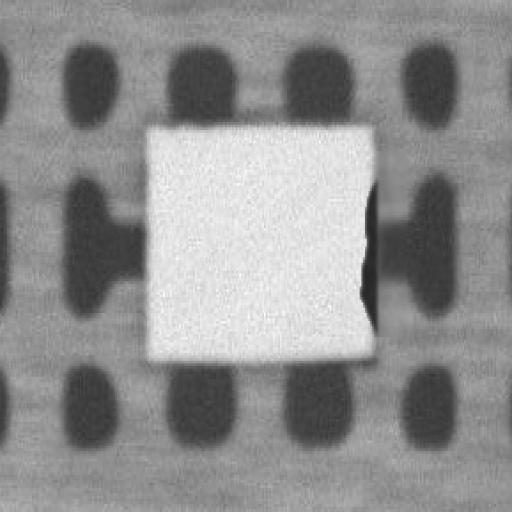DIE_BROKEN: (354, 180, 378, 334)
